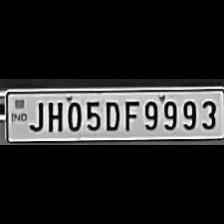0: (64, 98, 82, 132)
3: (199, 96, 217, 130)
5: (83, 98, 101, 132)
9: (178, 97, 198, 129), (141, 97, 159, 130), (160, 97, 178, 130)
D: (102, 98, 120, 132)
F: (120, 97, 138, 132)
H: (44, 98, 64, 132)
J: (27, 98, 43, 132)
